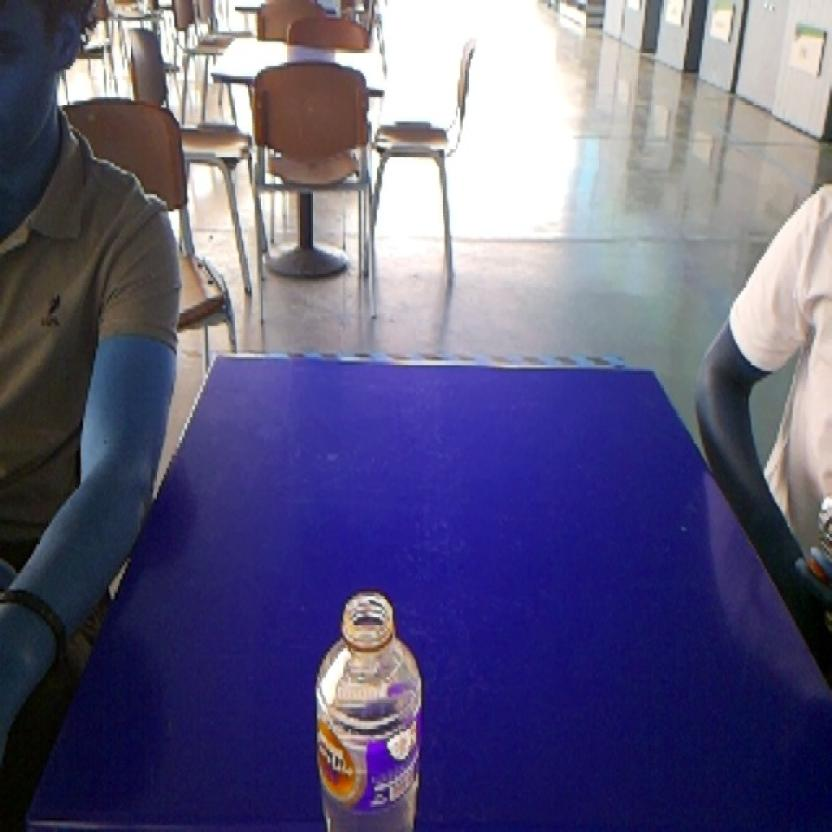no_cap: (301, 577, 431, 831)
